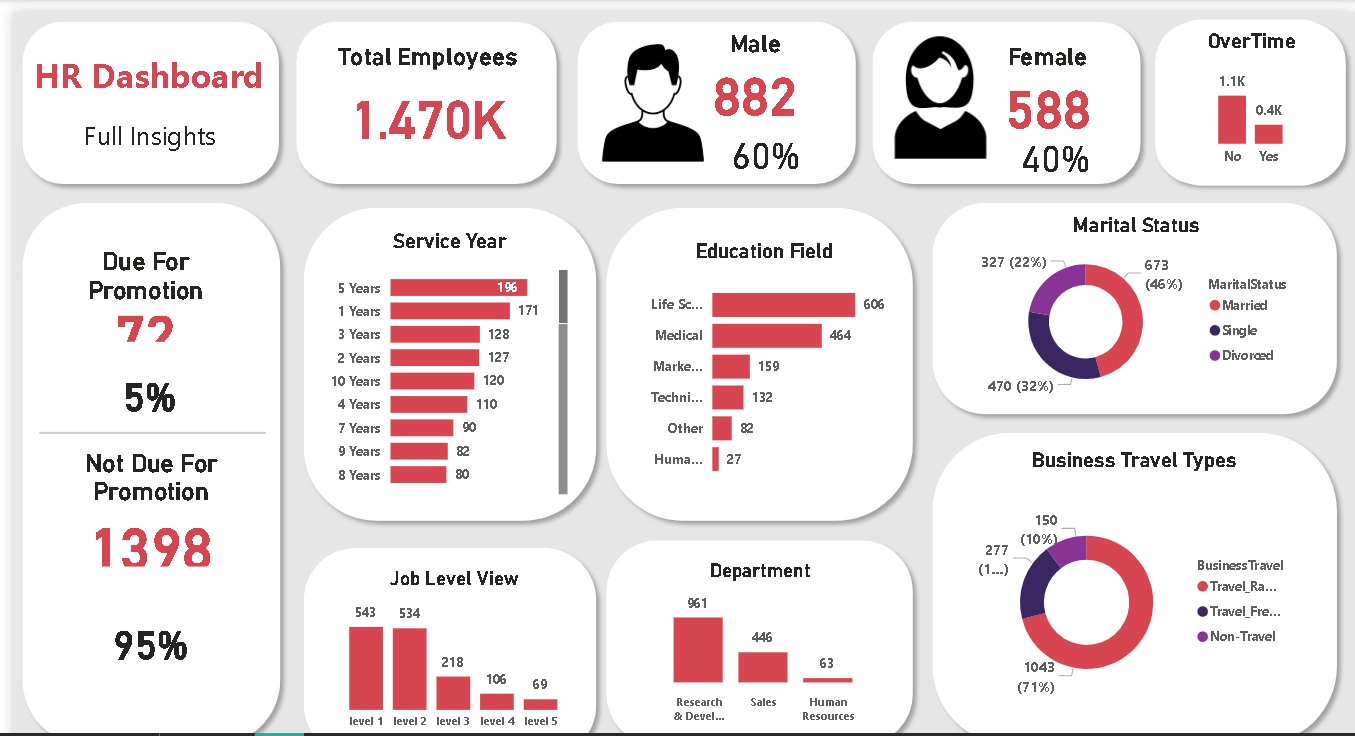

The page's visual inventory and layout, read from the dashboard file:
{"tool":"powerbi","page":{"name":"Page 1","canvas":[1280,720],"ordinal":0},"visuals":[{"type":"shape","box":[0,0,262.6,173],"z":0,"group":"g5"},{"type":"group","id":"g1","title":"Group 2","box":[1079.8,0,200,173],"z":0},{"type":"shape","box":[261.4,0,266.3,173],"z":1000,"group":"g4"},{"type":"group","id":"g2","title":"Group 3","box":[528.8,0,283.4,173],"z":1000},{"type":"shape","box":[528.8,0,283.4,173],"z":2000,"group":"g2"},{"type":"group","id":"g3","title":"Group 1","box":[811,0,273.6,173],"z":2000},{"type":"group","id":"g4","title":"Group 4","box":[261.4,0,266.3,173],"z":3000},{"type":"shape","box":[811,0,273.6,173],"z":3000,"group":"g3"},{"type":"shape","box":[268.7,501.8,296.9,218.4],"z":3000,"group":"g10"},{"type":"group","id":"g5","title":"Group 5","box":[0,0,262.6,173],"z":4000},{"type":"shape","box":[268.7,177.9,296.9,316.6],"z":4000,"group":"g8"},{"type":"shape","box":[0,173,263.8,535],"z":5000,"group":"g9"},{"type":"group","id":"g6","title":"Group 6","box":[867.5,173,403.7,219.6],"z":5000},{"type":"group","id":"g7","title":"Group 7","box":[557.1,177.9,310.4,316.6],"z":6000},{"type":"shape","box":[867.5,392.6,403.7,315.3],"z":6000,"group":"g12"},{"type":"card","title":"Total Employees","fields":{"Values":["all measures.total emp"]},"box":[282.7,28.2,227,108],"z":7000,"group":"g4"},{"type":"group","id":"g8","title":"Group 8","box":[268.7,177.9,296.9,316.6],"z":7000},{"type":"card","title":"Male","fields":{"Values":["all measures.male"]},"box":[627,17.2,162,88.3],"z":8000,"group":"g2"},{"type":"group","id":"g9","title":"Group 9","box":[0,173,263.8,535],"z":8000},{"type":"card","fields":{"Values":["all measures.% male"]},"box":[656.4,112.9,121.5,42.9],"z":9000,"group":"g2"},{"type":"group","id":"g10","title":"Group 10","box":[268.7,501.8,296.9,218.4],"z":9000},{"type":"card","title":"Female","fields":{"Values":["all measures.female"]},"box":[914.1,28.2,147.2,88.3],"z":10000,"group":"g3"},{"type":"textbox","box":[12.3,33.1,235.6,78.5],"z":10000,"group":"g5"},{"type":"group","id":"g11","title":"Group 11","box":[557.1,494.5,310.4,213.5],"z":10000},{"type":"textbox","box":[33.1,95.7,195.1,51.5],"z":11000,"group":"g5"},{"type":"group","id":"g12","title":"Group 12","box":[867.5,392.6,403.7,315.3],"z":11000},{"type":"image","box":[549.7,18.4,121.5,137.4],"z":12000,"group":"g2"},{"type":"card","fields":{"Values":["all measures.% female"]},"box":[937.4,115.3,115.3,42.9],"z":12000,"group":"g3"},{"type":"card","title":"Due For Promotion","fields":{"Values":["all measures.due for pormotion"]},"box":[16,224.5,222.1,95.7],"z":13000,"group":"g9"},{"type":"card","fields":{"Values":["all measures.% not_due"]},"box":[33.1,553.4,195.1,94.5],"z":14000,"group":"g9"},{"type":"card","title":"Not Due For Promotion","fields":{"Values":["all measures.not due"]},"box":[30.7,415.9,201.2,117.8],"z":15000,"group":"g9"},{"type":"image","box":[822,17.2,126.4,130.1],"z":16000,"group":"g3"},{"type":"card","fields":{"Values":["all measures.% due for promotion"]},"box":[28.2,335,202.5,57.7],"z":16000,"group":"g9"},{"type":"shape","box":[24.5,392.6,216,18.4],"z":17000,"group":"g9"},{"type":"clusteredBarChart","title":"Service Year","fields":{"Category":["HR Analytics Data.Service Year"],"Y":["all measures.total emp"]},"box":[299.4,207.3,234.4,257.7],"z":18000,"group":"g8"},{"type":"columnChart","title":"Job Level View","fields":{"Y":["all measures.total emp"],"Category":["HR Analytics Data.Job Levels"]},"box":[299.4,528.8,242.9,164.4],"z":19000,"group":"g10"},{"type":"donutChart","title":"Business Travel Types","fields":{"Y":["all measures.total emp"],"Category":["HR Analytics Data.BusinessTravel"]},"box":[914.1,415.9,310.4,268.7],"z":20000,"group":"g12"},{"type":"shape","box":[557.1,494.5,310.4,213.5],"z":21000,"group":"g11"},{"type":"columnChart","title":"Department","fields":{"Y":["all measures.total emp"],"Category":["HR Analytics Data.Department"]},"box":[592.7,521.5,240.5,164.4],"z":22000,"group":"g11"},{"type":"shape","box":[867.5,173,403.7,219.6],"z":23000,"group":"g6"},{"type":"donutChart","title":"Marital Status","fields":{"Y":["all measures.total emp"],"Category":["HR Analytics Data.MaritalStatus"]},"box":[900.6,192.6,339.9,181.6],"z":24000,"group":"g6"},{"type":"shape","box":[557.1,177.9,310.4,316.6],"z":25000,"group":"g7"},{"type":"clusteredBarChart","title":" Education Field","fields":{"Category":["HR Analytics Data.EducationField"],"Y":["all measures.total emp"]},"box":[581.6,207.3,267.5,257.7],"z":26000,"group":"g7"},{"type":"shape","box":[1079.8,0,200,173],"z":27000,"group":"g1"},{"type":"clusteredColumnChart","title":"OverTime","fields":{"Y":["all measures.total emp"],"Category":["HR Analytics Data.OverTime"]},"box":[1101.9,7.4,155.8,158.3],"z":28000,"group":"g1"}]}

Visuals, with their boxes on the page's 1280x720 design canvas (x1, y1, x2, y2). These are canvas units, not pixel positions in the 1355x736 screenshot, which may show the page scaled, cropped or inside an application window:
shape: crop(0, 0, 263, 173)
"Group 2" group: crop(1080, 0, 1280, 173)
shape: crop(261, 0, 528, 173)
"Group 3" group: crop(529, 0, 812, 173)
shape: crop(529, 0, 812, 173)
"Group 1" group: crop(811, 0, 1085, 173)
"Group 4" group: crop(261, 0, 528, 173)
shape: crop(811, 0, 1085, 173)
shape: crop(269, 502, 566, 720)
"Group 5" group: crop(0, 0, 263, 173)
shape: crop(269, 178, 566, 494)
shape: crop(0, 173, 264, 708)
"Group 6" group: crop(868, 173, 1271, 393)
"Group 7" group: crop(557, 178, 868, 494)
shape: crop(868, 393, 1271, 708)
"Total Employees" card: crop(283, 28, 510, 136)
"Group 8" group: crop(269, 178, 566, 494)
"Male" card: crop(627, 17, 789, 106)
"Group 9" group: crop(0, 173, 264, 708)
card - all measures.% male: crop(656, 113, 778, 156)
"Group 10" group: crop(269, 502, 566, 720)
"Female" card: crop(914, 28, 1061, 116)
textbox: crop(12, 33, 248, 112)
"Group 11" group: crop(557, 494, 868, 708)
textbox: crop(33, 96, 228, 147)
"Group 12" group: crop(868, 393, 1271, 708)
image: crop(550, 18, 671, 156)
card - all measures.% female: crop(937, 115, 1053, 158)
"Due For Promotion" card: crop(16, 224, 238, 320)
card - all measures.% not_due: crop(33, 553, 228, 648)
"Not Due For Promotion" card: crop(31, 416, 232, 534)
image: crop(822, 17, 948, 147)
card - all measures.% due for promotion: crop(28, 335, 231, 393)
shape: crop(24, 393, 240, 411)
"Service Year" clusteredBarChart: crop(299, 207, 534, 465)
"Job Level View" columnChart: crop(299, 529, 542, 693)
"Business Travel Types" donutChart: crop(914, 416, 1224, 685)
shape: crop(557, 494, 868, 708)
"Department" columnChart: crop(593, 522, 833, 686)
shape: crop(868, 173, 1271, 393)
"Marital Status" donutChart: crop(901, 193, 1240, 374)
shape: crop(557, 178, 868, 494)
" Education Field" clusteredBarChart: crop(582, 207, 849, 465)
shape: crop(1080, 0, 1280, 173)
"OverTime" clusteredColumnChart: crop(1102, 7, 1258, 166)
